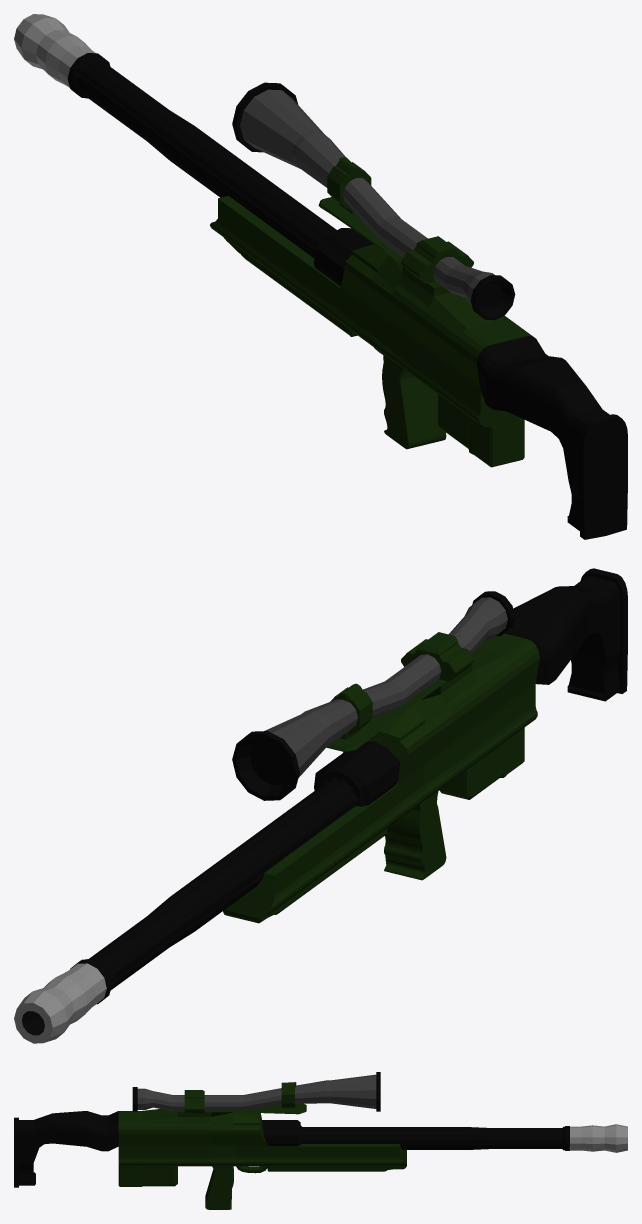
File: sniper.fbx
The picture shows the model from 3 angles, top to bottom: view 1: azimuth 30°, elevation 25°; view 2: azimuth 150°, elevation 25°; view 3: azimuth 270°, elevation 25°; orthographic projection. The views are drawn at different scales.
Visible parts, largest first — view 1: Cube, Cube.001, Cylinder, Cylinder.001, Cylinder.006, Cylinder.005, Cylinder.004; view 2: Cube, Cylinder, Cube.001, Cylinder.001, Cylinder.004, Cylinder.006, Cylinder.003; view 3: Cube, Cylinder, Cube.001, Cylinder.001, Cylinder.006.
Boxes of the visible parts, x1=… form: Cube: x1=210, y1=157, x2=534, y2=467; Cube.001: x1=477, y1=336, x2=627, y2=539; Cylinder: x1=67, y1=53, x2=373, y2=286; Cylinder.001: x1=240, y1=89, x2=494, y2=305; Cylinder.006: x1=14, y1=14, x2=95, y2=87; Cylinder.005: x1=470, y1=275, x2=515, y2=320; Cylinder.004: x1=232, y1=82, x2=298, y2=152; Cube: x1=223, y1=632, x2=539, y2=923; Cylinder: x1=70, y1=741, x2=400, y2=1004; Cube.001: x1=505, y1=568, x2=627, y2=701; Cylinder.001: x1=265, y1=597, x2=507, y2=777; Cylinder.004: x1=232, y1=731, x2=299, y2=800; Cylinder.006: x1=17, y1=963, x2=106, y2=1042; Cylinder.003: x1=14, y1=1003, x2=52, y2=1043; Cube: x1=118, y1=1082, x2=406, y2=1209; Cylinder: x1=262, y1=1120, x2=569, y2=1150; Cube.001: x1=14, y1=1111, x2=118, y2=1187; Cylinder.001: x1=137, y1=1074, x2=376, y2=1111; Cylinder.006: x1=569, y1=1124, x2=627, y2=1152.
Size of the model in its own units: 162 by 592 by 2512.
